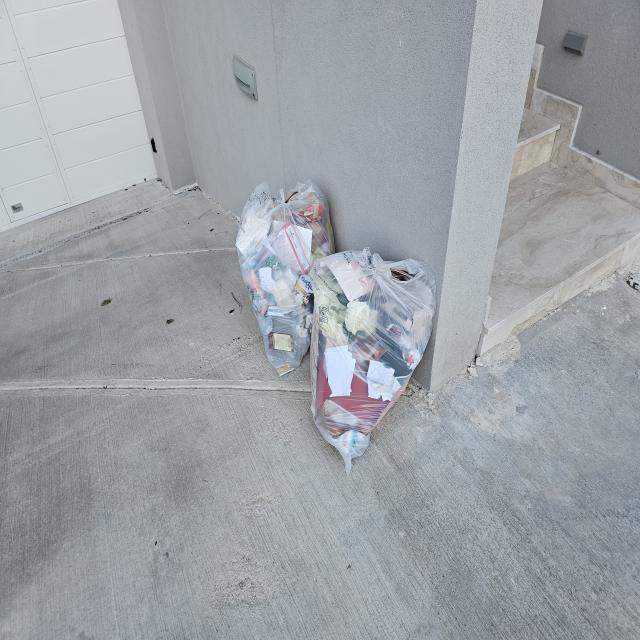grey_bag: (309, 250, 436, 459), (234, 178, 336, 376)
